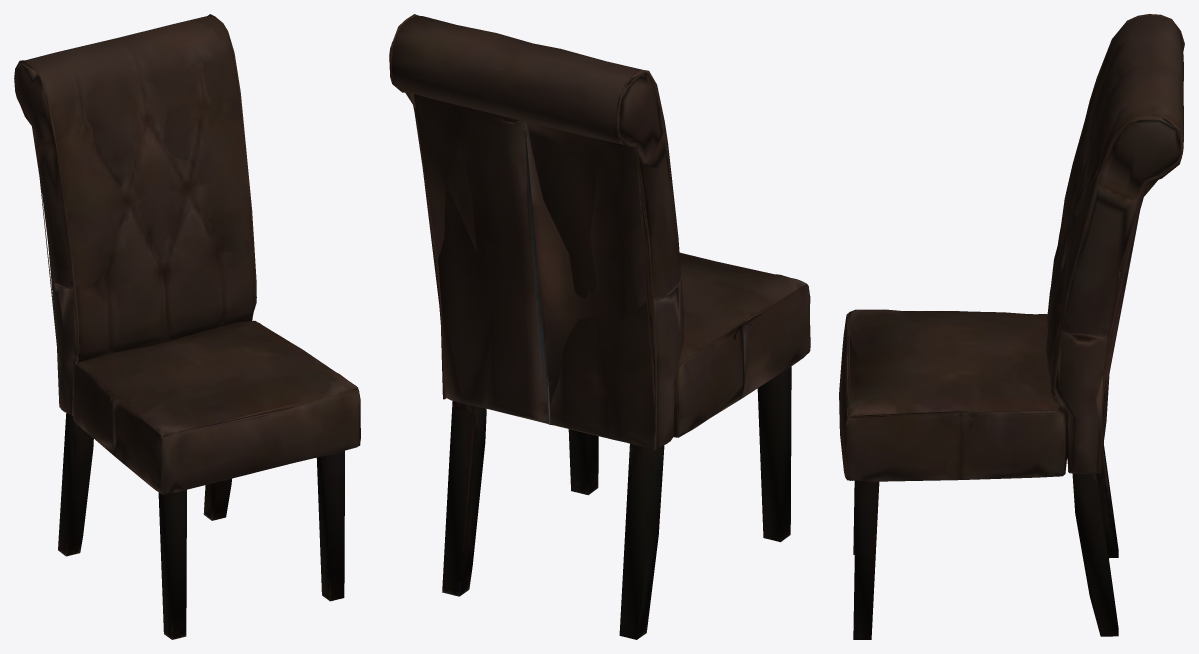
Rendered from dining_chair_02.glb.
The picture shows the model from 3 angles, left to right: view 1: azimuth 30°, elevation 25°; view 2: azimuth 150°, elevation 25°; view 3: azimuth 270°, elevation 25°; orthographic projection. The views are drawn at different scales.
Parts seen in each view (by area): view 1: dining_chair_02, dining_chair_02_lo; view 2: dining_chair_02, dining_chair_02_lo; view 3: dining_chair_02, dining_chair_02_lo.
Part boxes in pixels (<box>): dining_chair_02: <box>14,14,360,639</box>; dining_chair_02_lo: <box>24,43,359,639</box>; dining_chair_02: <box>389,14,810,639</box>; dining_chair_02_lo: <box>404,68,807,639</box>; dining_chair_02: <box>839,14,1184,639</box>; dining_chair_02_lo: <box>848,18,1179,638</box>.
Bounding box in the file's own units: 0.4314 × 0.9727 × 0.5764.
Materials: 1 (1 with a texture image).
